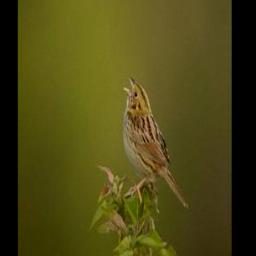Sparrow: (123, 73, 190, 211)
